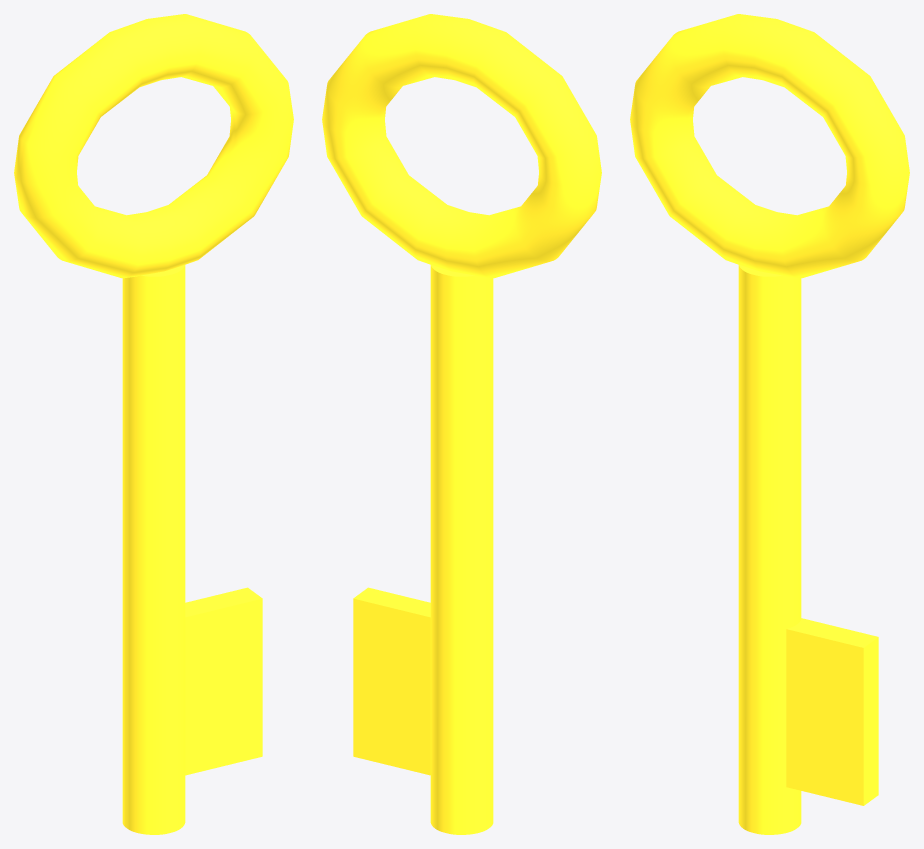
Rendered from RadioactiveKey.fbx.
3 renders of one model, left to right at view 1: azimuth 30°, elevation 25°; view 2: azimuth 150°, elevation 25°; view 3: azimuth 330°, elevation 25°, orthographic.
Parts seen in each view (by area): view 1: NurbsCurve, Cube; view 2: NurbsCurve, Cube; view 3: NurbsCurve, Cube.
Boxes of the visible parts, x1,y1,x2,y2 form: NurbsCurve: (14, 14, 293, 834); Cube: (185, 587, 262, 775); NurbsCurve: (322, 14, 601, 834); Cube: (353, 587, 430, 775); NurbsCurve: (630, 14, 909, 834); Cube: (786, 618, 878, 805).
Size of the model in its own units: 50 by 141 by 10.
